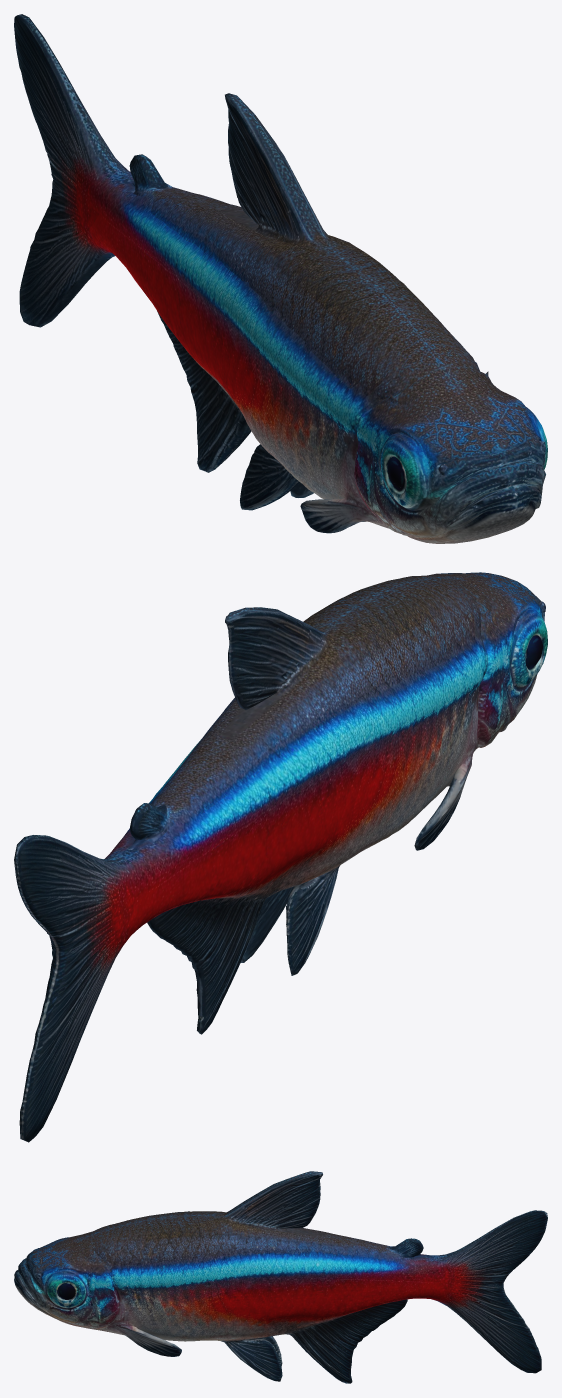
Rendered from neon_tetra.glb.
3 views of the same model, one above another, from view 1: azimuth 30°, elevation 25°; view 2: azimuth 150°, elevation 25°; view 3: azimuth 270°, elevation 25° (orthographic). The views are drawn at different scales.
Visible parts, largest first — view 1: tripo_part_0, tripo_part_3, tripo_part_2, tripo_part_1, tripo_part_4, tripo_part_5, tripo_part_6, tripo_part_8, tripo_part_10; view 2: tripo_part_0, tripo_part_3, tripo_part_1, tripo_part_2, tripo_part_5, tripo_part_4, tripo_part_6, tripo_part_8, tripo_part_10, tripo_part_7; view 3: tripo_part_0, tripo_part_3, tripo_part_1, tripo_part_2, tripo_part_5, tripo_part_4, tripo_part_7, tripo_part_9, tripo_part_10.
Boxes of the visible parts, x1=… form: tripo_part_0: x1=88, y1=160, x2=389, y2=528; tripo_part_3: x1=150, y1=187, x2=479, y2=404; tripo_part_2: x1=354, y1=365, x2=547, y2=543; tripo_part_1: x1=14, y1=14, x2=120, y2=327; tripo_part_4: x1=225, y1=93, x2=334, y2=244; tripo_part_5: x1=157, y1=311, x2=251, y2=472; tripo_part_6: x1=240, y1=444, x2=299, y2=510; tripo_part_8: x1=300, y1=497, x2=377, y2=533; tripo_part_10: x1=129, y1=154, x2=172, y2=196; tripo_part_0: x1=104, y1=633, x2=488, y2=948; tripo_part_3: x1=151, y1=575, x2=481, y2=815; tripo_part_1: x1=14, y1=835, x2=143, y2=1142; tripo_part_2: x1=427, y1=572, x2=547, y2=750; tripo_part_5: x1=147, y1=891, x2=265, y2=1034; tripo_part_4: x1=225, y1=607, x2=332, y2=710; tripo_part_6: x1=286, y1=865, x2=340, y2=975; tripo_part_8: x1=414, y1=757, x2=472, y2=850; tripo_part_10: x1=130, y1=803, x2=176, y2=848; tripo_part_7: x1=240, y1=886, x2=294, y2=962; tripo_part_0: x1=103, y1=1252, x2=454, y2=1341; tripo_part_3: x1=84, y1=1211, x2=391, y2=1265; tripo_part_1: x1=441, y1=1210, x2=547, y2=1373; tripo_part_2: x1=14, y1=1232, x2=119, y2=1330; tripo_part_5: x1=289, y1=1299, x2=407, y2=1383; tripo_part_4: x1=224, y1=1171, x2=322, y2=1230; tripo_part_7: x1=221, y1=1338, x2=282, y2=1381; tripo_part_9: x1=115, y1=1326, x2=181, y2=1356; tripo_part_10: x1=386, y1=1238, x2=425, y2=1258.
Bounding box in the file's own units: 0.1671 × 0.4281 × 0.9789.
13 materials, 13 textured.
